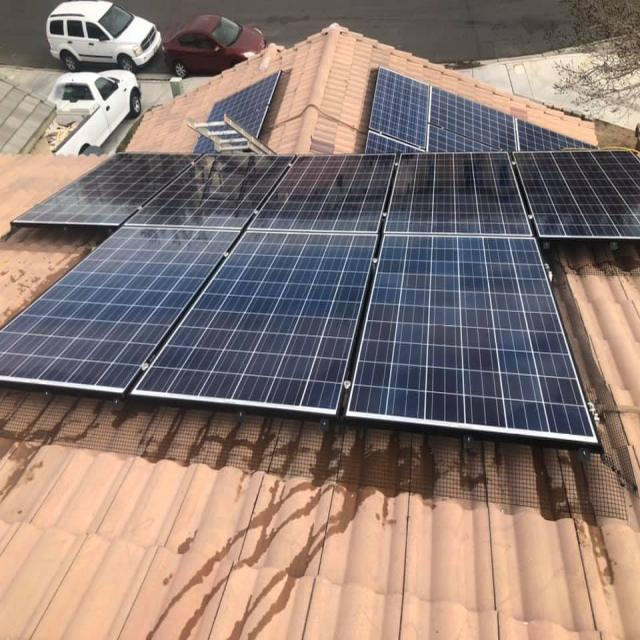clean-solar-panel: (0, 150, 640, 448)
